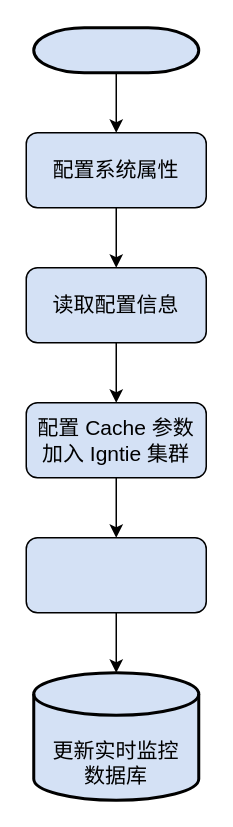
This 233x827 diagram has some shape labels left out. Here are the shapes that lost their labels. From the top down, the box of each, then its label:
(32, 26, 200, 74): 开始
(25, 536, 206, 613): 定时读取 Cache
